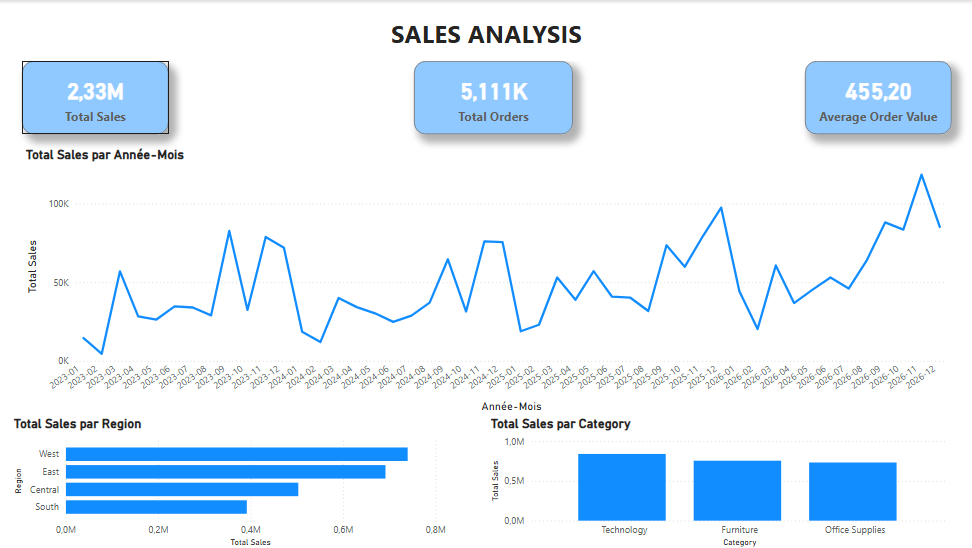

This screenshot's page, from the dashboard's own definition file:
{"tool":"powerbi","page":{"name":"Sales Analysis","canvas":[1280,720],"ordinal":1},"visuals":[{"type":"lineChart","title":"Sales evolution (Year-Month)","fields":{"Category":["Calendar.Année-Mois"],"Y":["Mesures.Total Sales"]},"box":[16,336,1232,208],"z":0},{"type":"card","fields":{"Values":["Mesures.Total Sales"]},"box":[16,240,192,80],"z":1000},{"type":"card","fields":{"Values":["Mesures.Total Orders"]},"box":[528,240,192,80],"z":2000},{"type":"clusteredBarChart","title":"Total Sales by Region","fields":{"Category":["Fact_Orders.Region"],"Y":["Mesures.Total Sales"]},"box":[16,544,576,176],"z":3000},{"type":"clusteredColumnChart","title":"Total Sales by Category","fields":{"Category":["Fact_Orders.Category"],"Y":["Mesures.Total Sales"]},"box":[640,544,608,176],"z":4000},{"type":"card","fields":{"Values":["Mesures.Average Order Value"]},"box":[1056,240,192,80],"z":5000},{"type":"textbox","box":[32,0,1216,64],"z":6000},{"type":"slicer","fields":{"Values":["Fact_Orders.Category"]},"box":[975.7,69.5,288,160],"z":7000},{"type":"slicer","fields":{"Values":["Calendar.Année"]},"box":[31.7,69.5,272,160],"z":8000},{"type":"slicer","fields":{"Values":["Fact_Orders.Region"]},"box":[335.7,69.5,288,160],"z":9000},{"type":"slicer","fields":{"Values":["Fact_Orders.Segment"]},"box":[640,64,272,160],"z":10000}]}

Visuals, with their boxes in screenshot pixels (x1, y1, x2, y2), scaled from the page's 1280x720 canvas onto the 972x548 screenshot:
"Sales evolution (Year-Month)" lineChart: crop(12, 256, 948, 414)
card - Mesures.Total Sales: crop(12, 183, 158, 244)
card - Mesures.Total Orders: crop(401, 183, 547, 244)
"Total Sales by Region" clusteredBarChart: crop(12, 414, 450, 547)
"Total Sales by Category" clusteredColumnChart: crop(486, 414, 948, 547)
card - Mesures.Average Order Value: crop(802, 183, 948, 244)
textbox: crop(24, 0, 948, 49)
slicer - Fact_Orders.Category: crop(741, 53, 960, 175)
slicer - Calendar.Année: crop(24, 53, 231, 175)
slicer - Fact_Orders.Region: crop(255, 53, 474, 175)
slicer - Fact_Orders.Segment: crop(486, 49, 693, 170)
